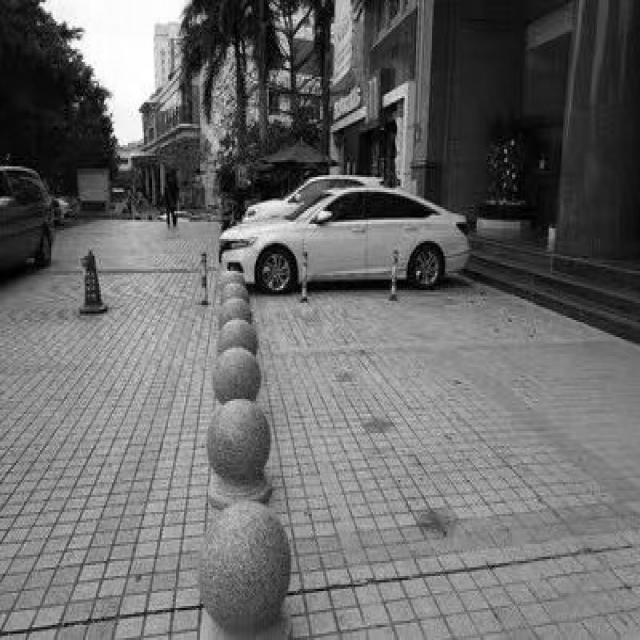car: (213, 182, 470, 292), (0, 162, 53, 267)
reflective_cone: (75, 243, 109, 312)
spherical_roadblock: (197, 497, 293, 636), (203, 392, 272, 506), (210, 344, 260, 401)
